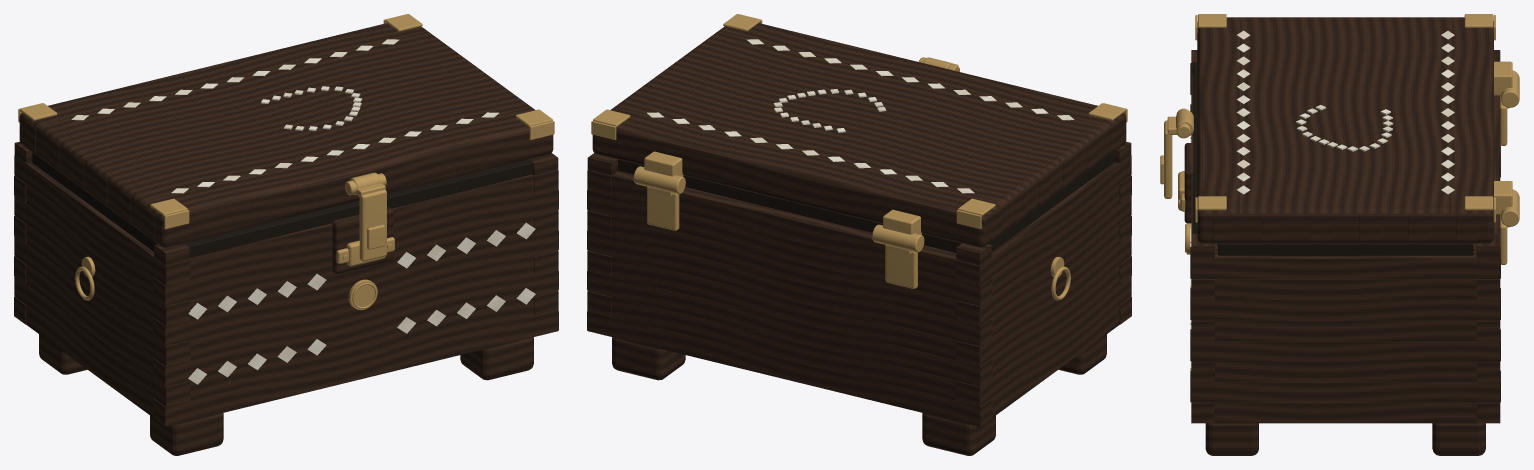
Rendered from solomon-islands.glb.
The picture shows the model from 3 angles, left to right: view 1: azimuth 30°, elevation 25°; view 2: azimuth 150°, elevation 25°; view 3: azimuth 270°, elevation 25°; orthographic projection. The views are drawn at different scales.
Visible parts, largest first — view 1: Lid / polished slab, Ebony / front course 0, Ebony / front course 4, Ebony / front course 2, Ebony / front course 6, Ebony / front course 3, Ebony / front course 1, Ebony / front course 7, Mineral seam / long, Ebony / front course 5, Ebony / side course 7, Ebony / side course 1 (+14 smaller); view 2: Lid / polished slab, Ebony / rear course 0, Ebony / rear course 2, Ebony / rear course 4, Ebony / rear course 7, Ebony / rear course 3, Ebony / rear course 5, Ebony / rear course 1, Ebony / rear course 6, Ebony / side course 7, Ebony / side course 1, Ebony / side course 3 (+17 smaller); view 3: Lid / polished slab, Ebony / side course 7.001, Ebony / side course 5.001, Ebony / side course 1.001, Ebony / side course 3.001, Ebony / side course 0.001, Ebony / side course 2.001, Ebony / side course 4.001, Ebony / side course 6.001, Mineral seam / side.001, Ebony foot.002, Ebony foot.003 (+28 smaller).
Part boxes in pixels (left/top/right/bottom): Lid / polished slab: left=19, top=23, right=553, bottom=247; Ebony / front course 0: left=154, top=311, right=558, bottom=426; Ebony / front course 4: left=154, top=230, right=558, bottom=345; Ebony / front course 2: left=154, top=271, right=558, bottom=386; Ebony / front course 6: left=154, top=190, right=558, bottom=305; Ebony / front course 3: left=190, top=256, right=533, bottom=360; Ebony / front course 1: left=190, top=297, right=533, bottom=400; Ebony / front course 7: left=189, top=174, right=533, bottom=279; Mineral seam / long: left=184, top=159, right=532, bottom=257; Ebony / front course 5: left=190, top=216, right=533, bottom=319; Ebony / side course 7: left=14, top=155, right=189, bottom=285; Ebony / side course 1: left=14, top=276, right=189, bottom=406; Lid / polished slab: left=592, top=23, right=1126, bottom=247; Ebony / rear course 0: left=587, top=311, right=991, bottom=426; Ebony / rear course 2: left=587, top=271, right=991, bottom=386; Ebony / rear course 4: left=587, top=230, right=991, bottom=345; Ebony / rear course 7: left=612, top=171, right=956, bottom=279; Ebony / rear course 3: left=612, top=256, right=955, bottom=360; Ebony / rear course 5: left=612, top=216, right=955, bottom=319; Ebony / rear course 1: left=612, top=297, right=955, bottom=400; Ebony / rear course 6: left=587, top=190, right=991, bottom=305; Ebony / side course 7: left=956, top=155, right=1131, bottom=285; Ebony / side course 1: left=956, top=276, right=1131, bottom=406; Ebony / side course 3: left=956, top=236, right=1131, bottom=365; Lid / polished slab: left=1197, top=17, right=1493, bottom=243; Ebony / side course 7.001: left=1191, top=250, right=1500, bottom=278; Ebony / side course 5.001: left=1191, top=299, right=1499, bottom=320; Ebony / side course 1.001: left=1191, top=382, right=1500, bottom=402; Ebony / side course 3.001: left=1191, top=341, right=1499, bottom=361; Ebony / side course 0.001: left=1215, top=402, right=1476, bottom=423; Ebony / side course 2.001: left=1215, top=361, right=1476, bottom=381; Ebony / side course 4.001: left=1215, top=320, right=1476, bottom=340; Ebony / side course 6.001: left=1215, top=279, right=1476, bottom=299; Mineral seam / side.001: left=1218, top=243, right=1473, bottom=255; Ebony foot.002: left=1205, top=423, right=1258, bottom=455; Ebony foot.003: left=1432, top=423, right=1485, bottom=455.
Bounding box in the file's own units: 3.79 × 2.28 × 2.88.
5 materials, 3 textured.
